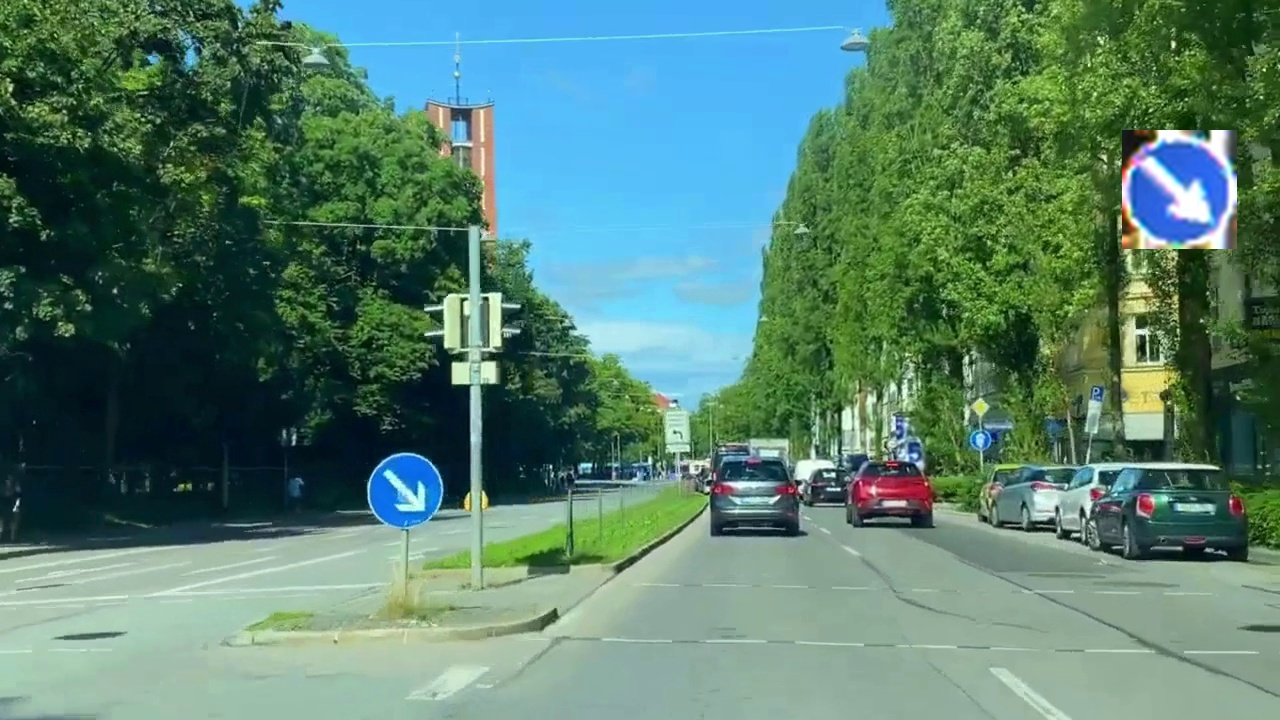Keep right: (1122, 130, 1237, 249)
